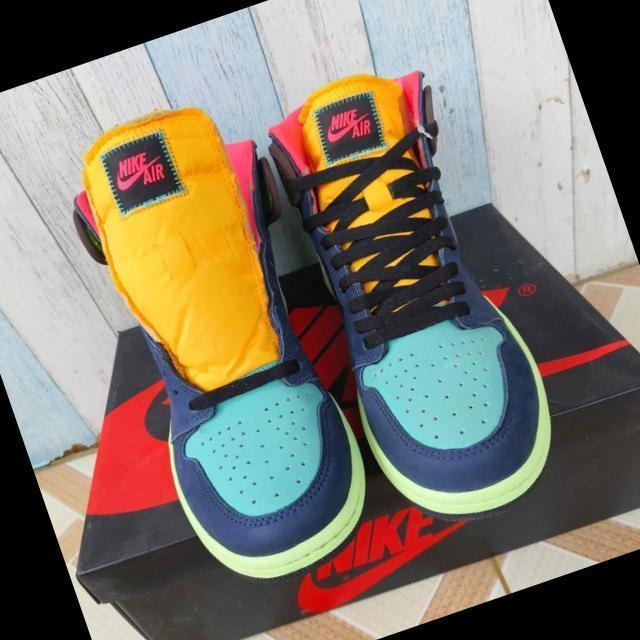nike original jordan 1: (49, 85, 401, 608), (252, 48, 580, 548)
